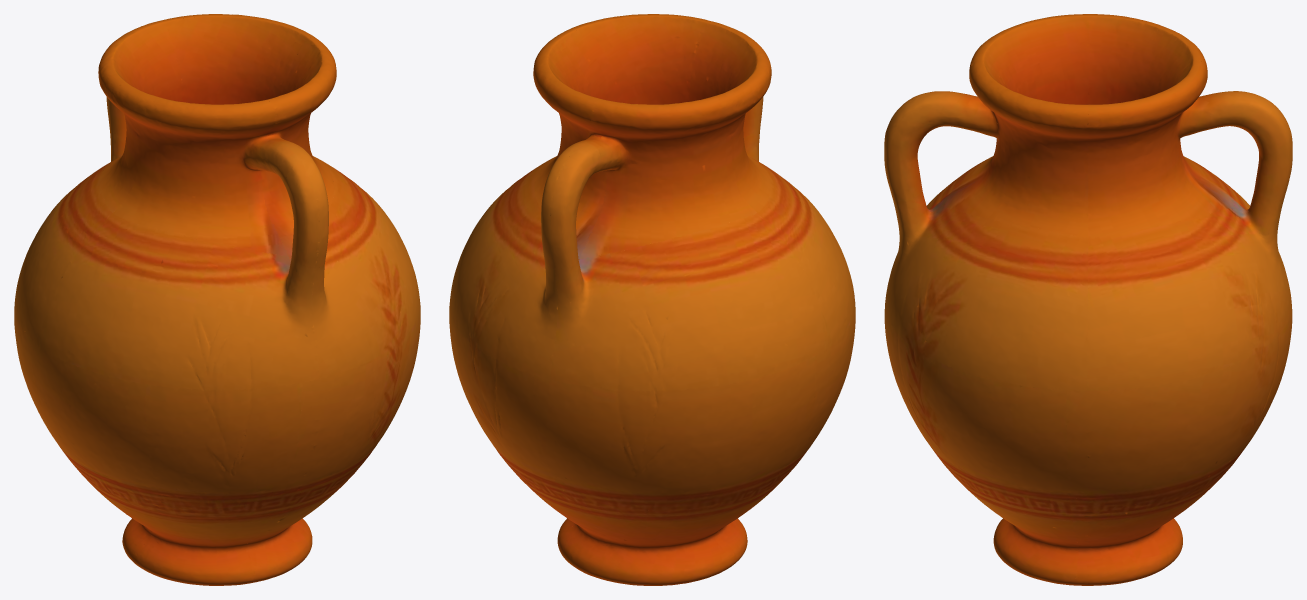
Rendered from 3. amphora.glb.
3 renders of one model, left to right at view 1: azimuth 30°, elevation 25°; view 2: azimuth 150°, elevation 25°; view 3: azimuth 270°, elevation 25°, orthographic.
Visible parts, largest first — view 1: tripo_node_1925600a-6065-4ccc-8dff-3f3f402b0e4f; view 2: tripo_node_1925600a-6065-4ccc-8dff-3f3f402b0e4f; view 3: tripo_node_1925600a-6065-4ccc-8dff-3f3f402b0e4f.
Part boxes in pixels (box(x1,y1,x2,y2)): tripo_node_1925600a-6065-4ccc-8dff-3f3f402b0e4f: box(14, 14, 420, 585); tripo_node_1925600a-6065-4ccc-8dff-3f3f402b0e4f: box(449, 14, 855, 585); tripo_node_1925600a-6065-4ccc-8dff-3f3f402b0e4f: box(884, 14, 1292, 585).
Size of the model in its own units: 0.755 by 1 by 0.757.
1 material, 1 textured.
